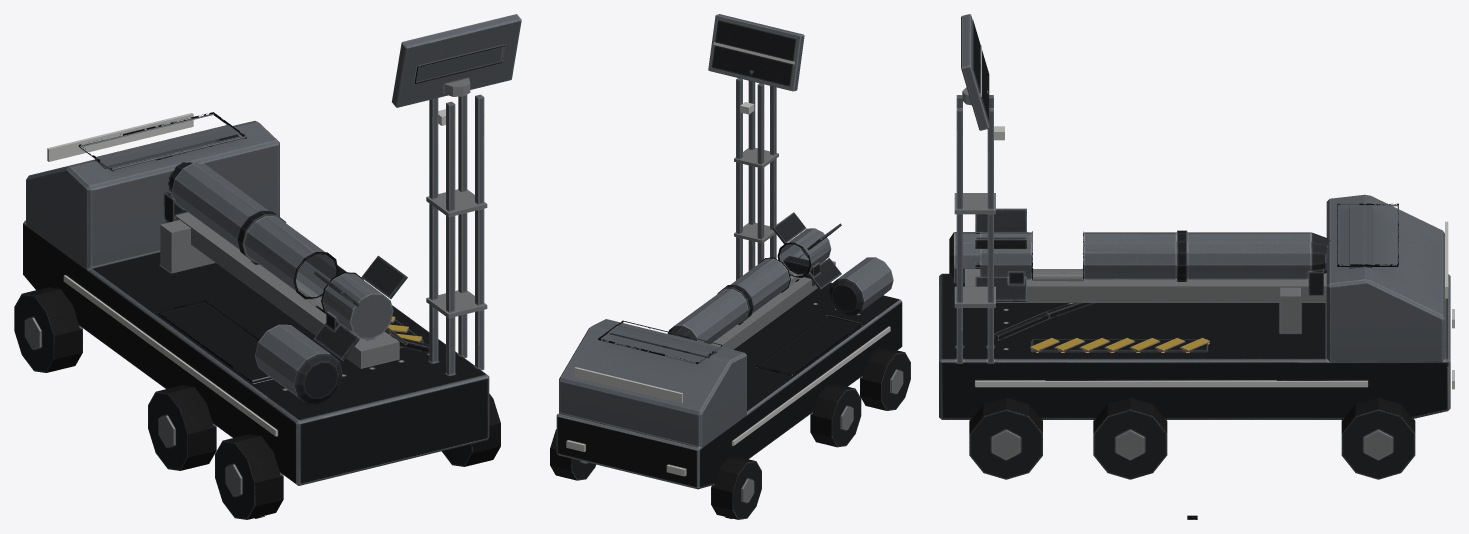
File: chs_chimera.fbx
3 renders of one model, left to right at view 1: azimuth 30°, elevation 25°; view 2: azimuth 150°, elevation 25°; view 3: azimuth 270°, elevation 25°, orthographic. The views are drawn at different scales.
Parts seen in each view (by area): view 1: base_bar, launcher_bar, radar_bar, wheelL3_bar, wheelL1_bar, wheelL2_bar, base_glow_running_bar, wheelR3_bar; view 2: base_bar, launcher_bar, radar_bar, wheelL2_bar, wheelL1_bar, wheelL3_bar, base_glow_running_bar, wheelR1_bar; view 3: base_bar, launcher_bar, wheelR2_bar, wheelR1_bar, wheelR3_bar, base_glow_running_bar, radar_bar.
Part boxes in pixels (bbox=[...]): base_bar: bbox=[23, 94, 489, 485]; launcher_bar: bbox=[164, 162, 407, 368]; radar_bar: bbox=[392, 14, 521, 107]; wheelL3_bar: bbox=[215, 434, 283, 519]; wheelL1_bar: bbox=[14, 287, 82, 372]; wheelL2_bar: bbox=[148, 385, 216, 470]; base_glow_running_bar: bbox=[47, 109, 445, 436]; wheelR3_bar: bbox=[442, 393, 500, 466]; base_bar: bbox=[556, 78, 902, 489]; launcher_bar: bbox=[663, 212, 841, 352]; radar_bar: bbox=[708, 14, 804, 91]; wheelL2_bar: bbox=[810, 384, 861, 447]; wheelL1_bar: bbox=[711, 456, 761, 519]; wheelL3_bar: bbox=[860, 347, 910, 410]; base_glow_running_bar: bbox=[574, 102, 890, 445]; wheelR1_bar: bbox=[550, 429, 595, 480]; base_bar: bbox=[939, 95, 1450, 419]; launcher_bar: bbox=[965, 208, 1330, 302]; wheelR2_bar: bbox=[1093, 397, 1167, 479]; wheelR1_bar: bbox=[1341, 397, 1415, 479]; wheelR3_bar: bbox=[969, 397, 1042, 479]; base_glow_running_bar: bbox=[975, 126, 1448, 387]; radar_bar: bbox=[961, 14, 989, 130].
Bounding box in the file's own units: 549 × 1100 × 998.
Materials: 2 (2 with a texture image).
